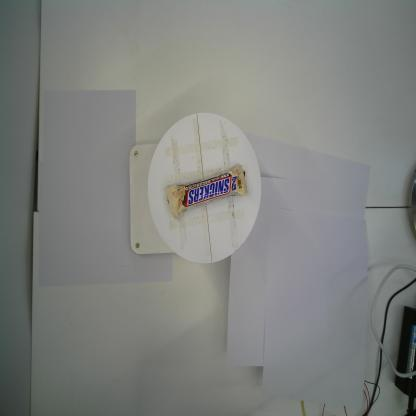Chocolate: (165, 162, 249, 223)
